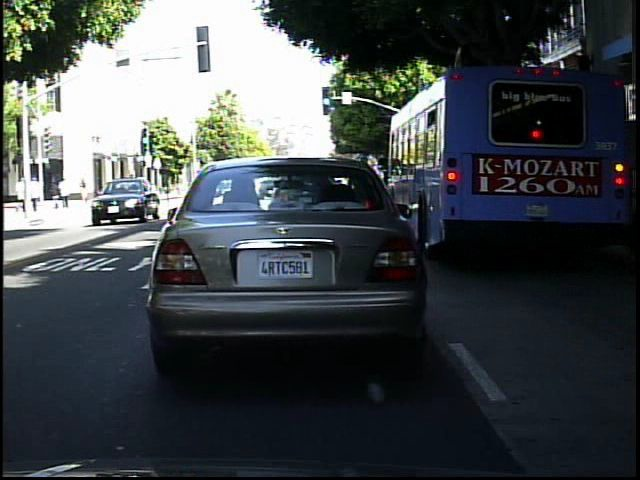person: (123, 170, 141, 205), (19, 175, 36, 208), (47, 177, 63, 212), (30, 173, 44, 213), (14, 173, 26, 216), (59, 176, 72, 212), (78, 173, 91, 206)
